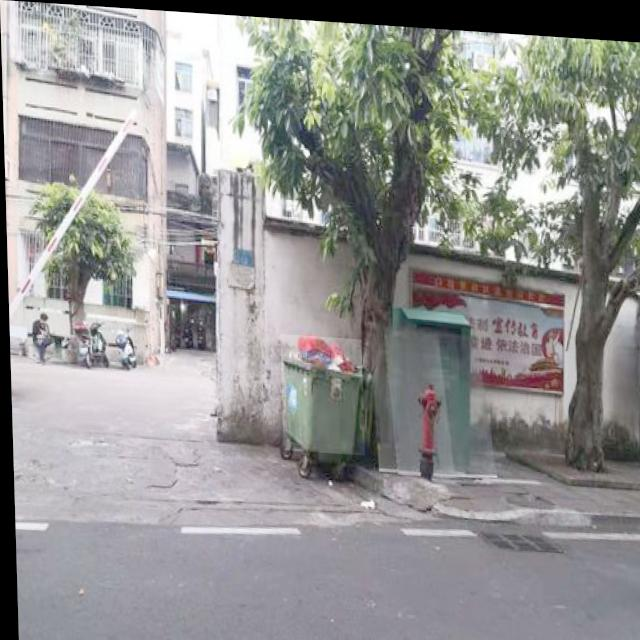overflow: (278, 330, 362, 450)
